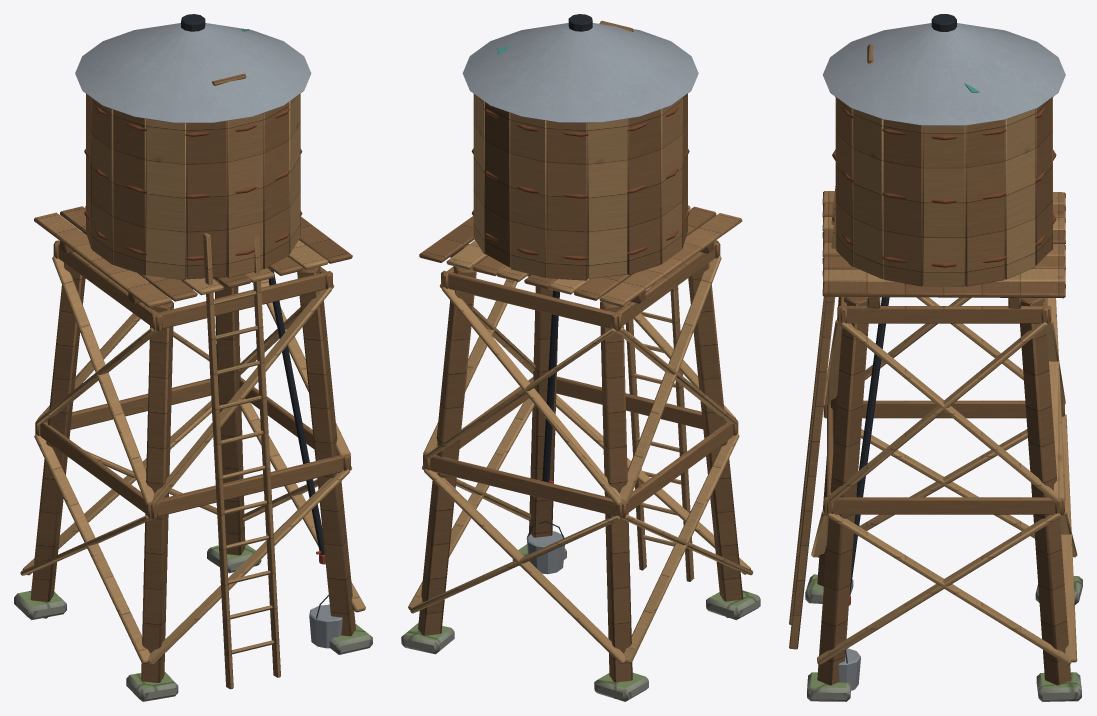
The model's file is water_tower_small.glb.
3 renders of one model, left to right at view 1: azimuth 30°, elevation 25°; view 2: azimuth 150°, elevation 25°; view 3: azimuth 270°, elevation 25°, orthographic. The views are drawn at different scales.
Visible parts, largest first — view 1: water_tower_small; view 2: water_tower_small; view 3: water_tower_small.
Boxes of the visible parts, bbox=[...] form: water_tower_small: bbox=[14, 14, 372, 701]; water_tower_small: bbox=[401, 14, 760, 701]; water_tower_small: bbox=[789, 14, 1082, 701].
Bounding box in the file's own units: 2.16 × 5.45 × 2.3.
Materials: 23 (23 with a texture image).
